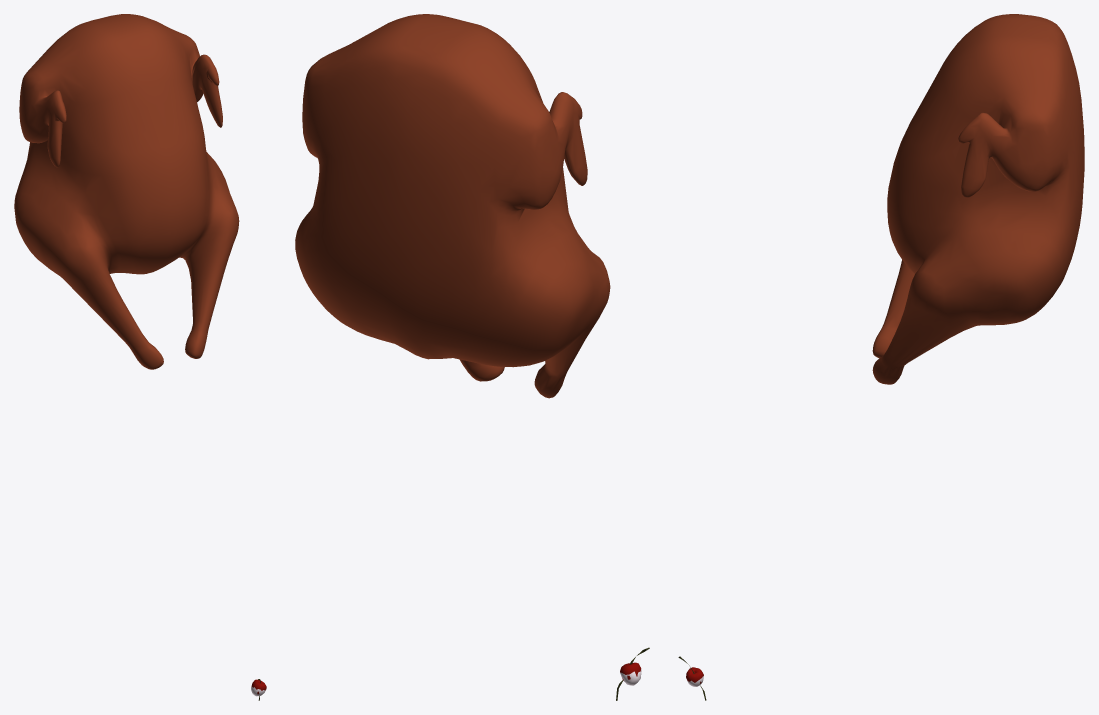
The model's file is turkey.glb.
The picture shows the model from 3 angles, left to right: view 1: azimuth 30°, elevation 25°; view 2: azimuth 150°, elevation 25°; view 3: azimuth 270°, elevation 25°; orthographic projection. The views are drawn at different scales.
Parts seen in each view (by area): view 1: Cube.020; view 2: Cube.020; view 3: Cube.020.
Boxes of the visible parts, x1=… form: Cube.020: x1=14, y1=14, x2=239, y2=369; Cube.020: x1=295, y1=14, x2=610, y2=398; Cube.020: x1=872, y1=14, x2=1084, y2=384.
Size of the model in its own units: 12.37 by 34.99 by 19.25.
